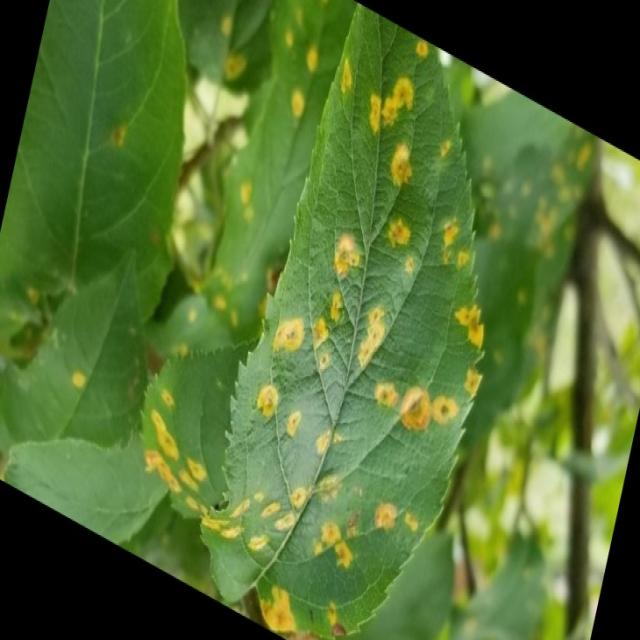Gymnosporangium_Rusts: (140, 5, 488, 636)
